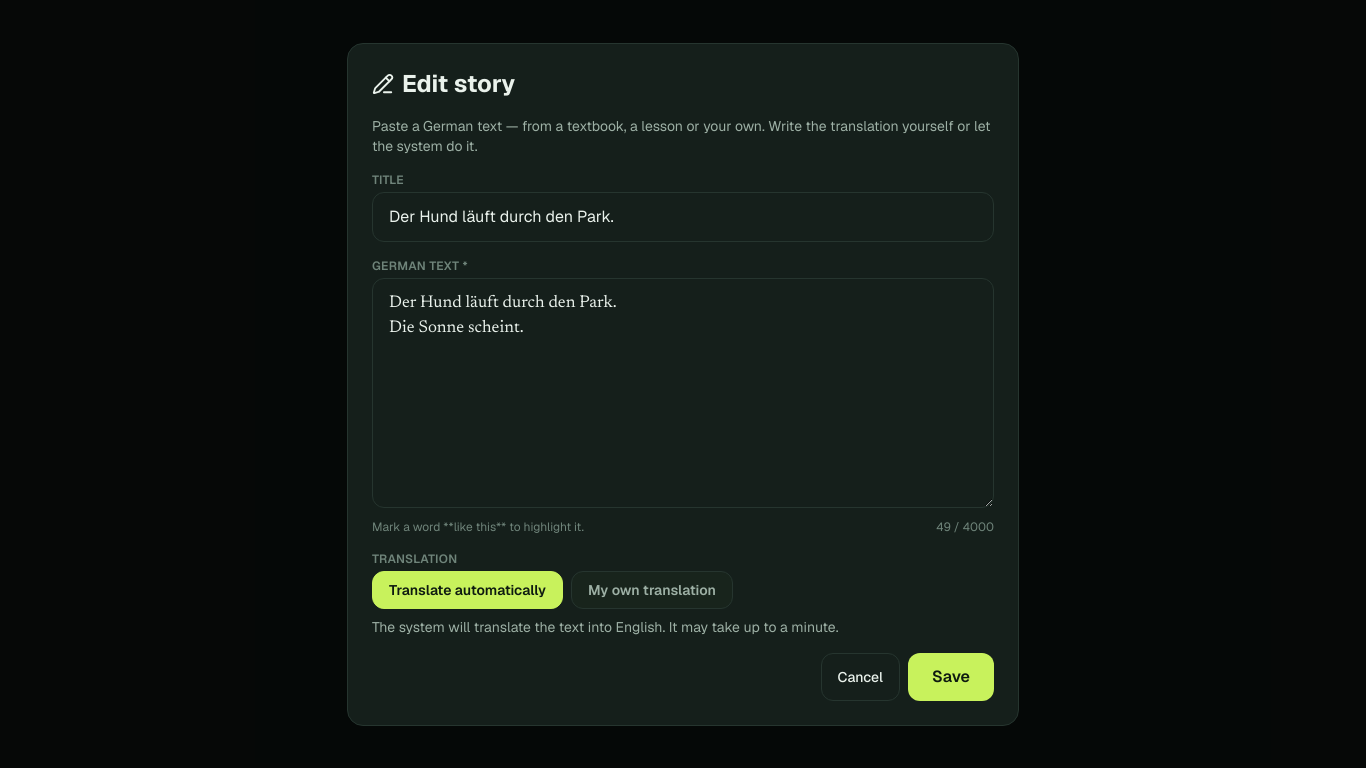
Test: StoryFormModal: edit › an automatic translation starts in auto mode, but can be corrected by hand (field prefilled)
Click the radio button labelled "My own translation" at {"x": 652, "y": 590}, box [571,570,733,608]
(page scrolled)
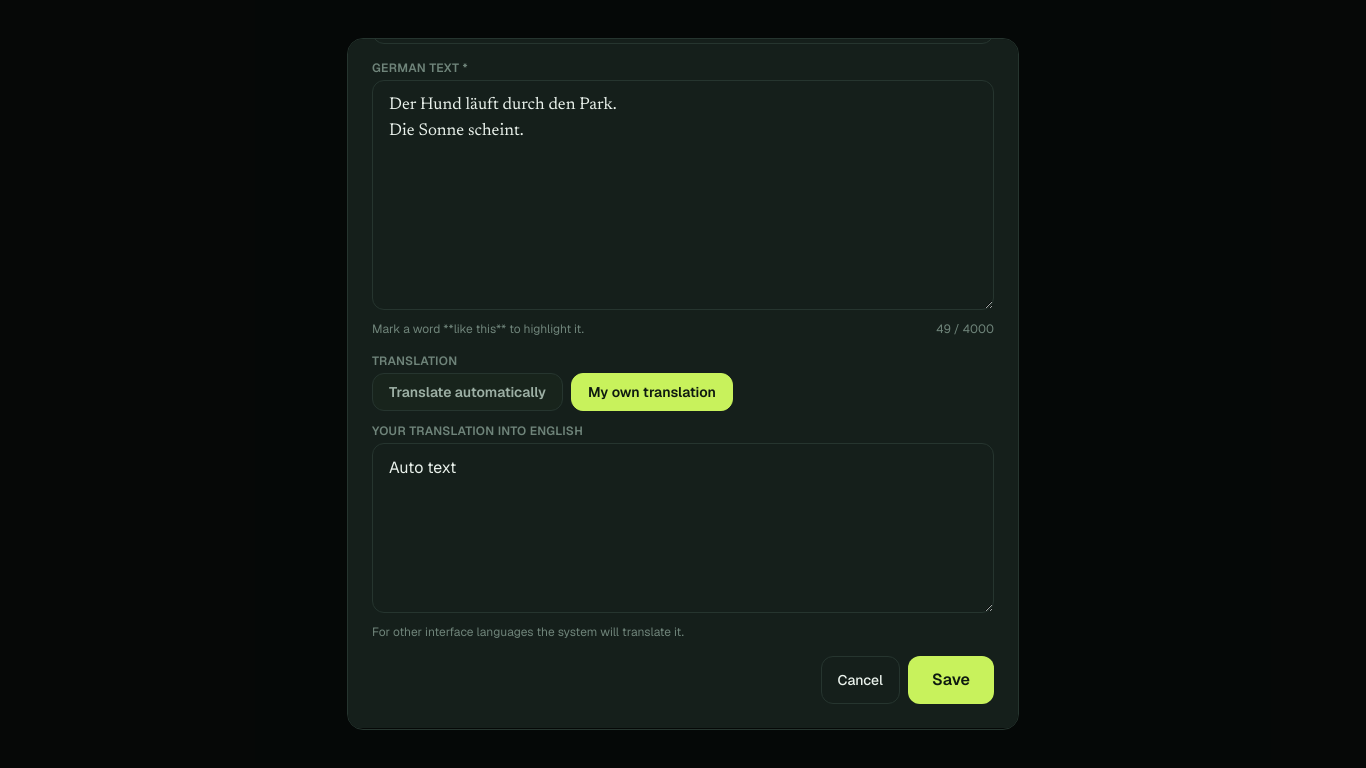
Expected: the text box labelled "Your translation into English" holds "Auto text", [372,443,994,613]
